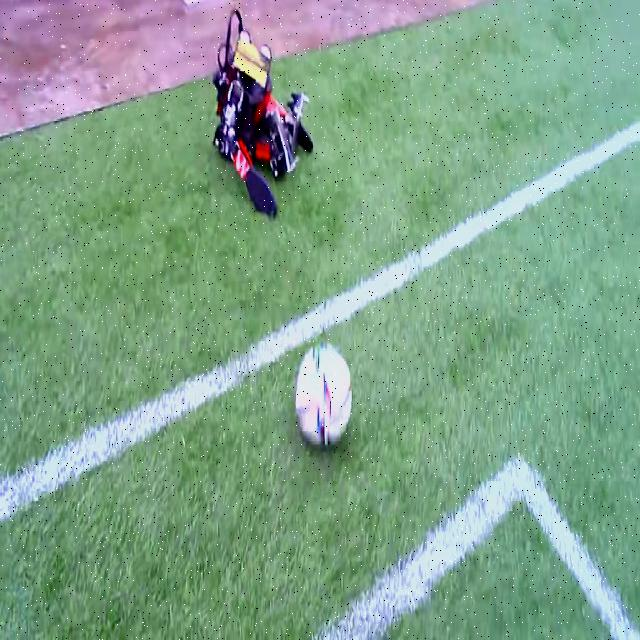ball: (295, 344, 351, 448)
